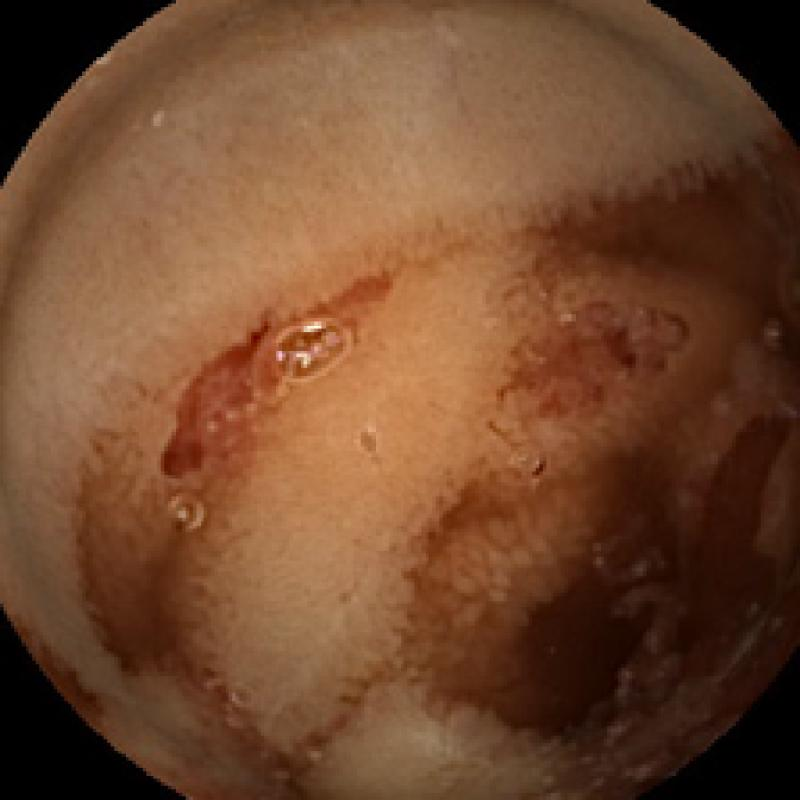bleeding: (499, 302, 790, 735), (152, 321, 266, 471)
